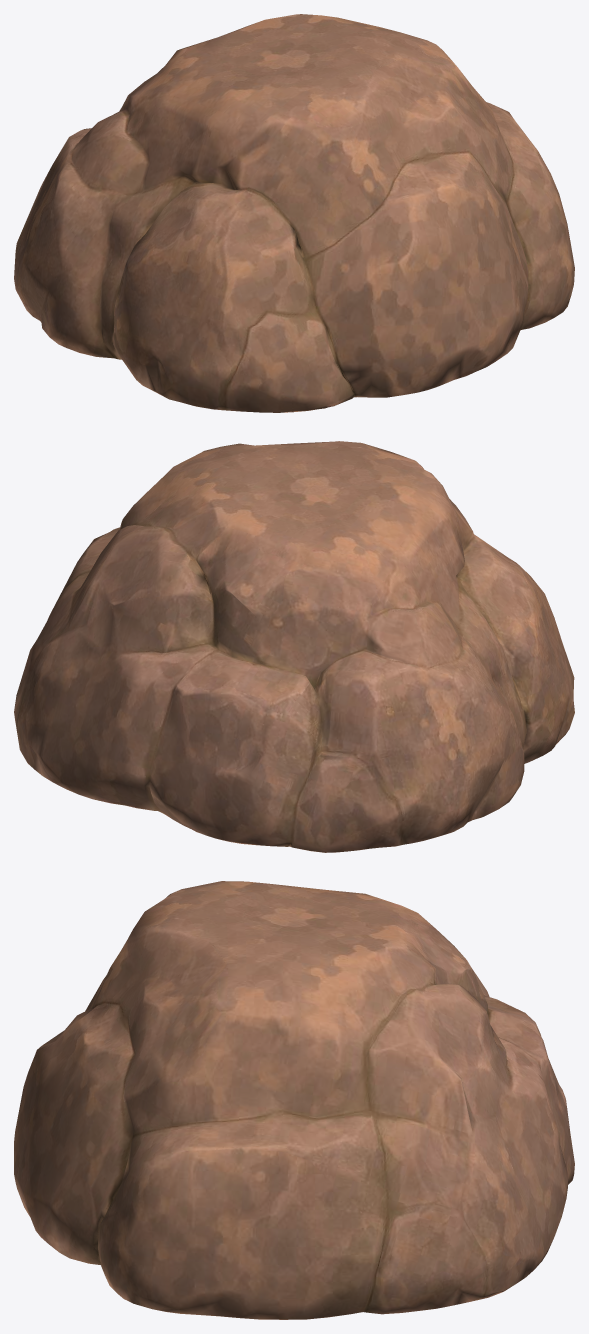
Rendered from large_boulder.glb.
3 views of the same model, one above another, from view 1: azimuth 30°, elevation 25°; view 2: azimuth 150°, elevation 25°; view 3: azimuth 270°, elevation 25° (orthographic). The views are drawn at different scales.
Visible parts, largest first — view 1: large_boulder; view 2: large_boulder; view 3: large_boulder.
Part boxes in pixels (x1=…): large_boulder: x1=14, y1=14, x2=574, y2=412; large_boulder: x1=14, y1=441, x2=574, y2=852; large_boulder: x1=14, y1=881, x2=574, y2=1319.
Size of the model in its own units: 1.7 by 0.9 by 1.62.
Materials: 1 (1 with a texture image).
